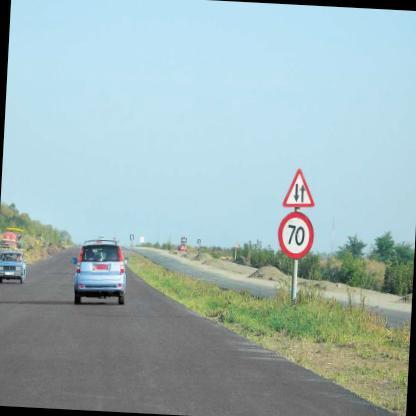road_sign: (278, 212, 314, 259), (283, 169, 314, 207)
